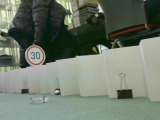speed_30: (23, 44, 46, 68)
